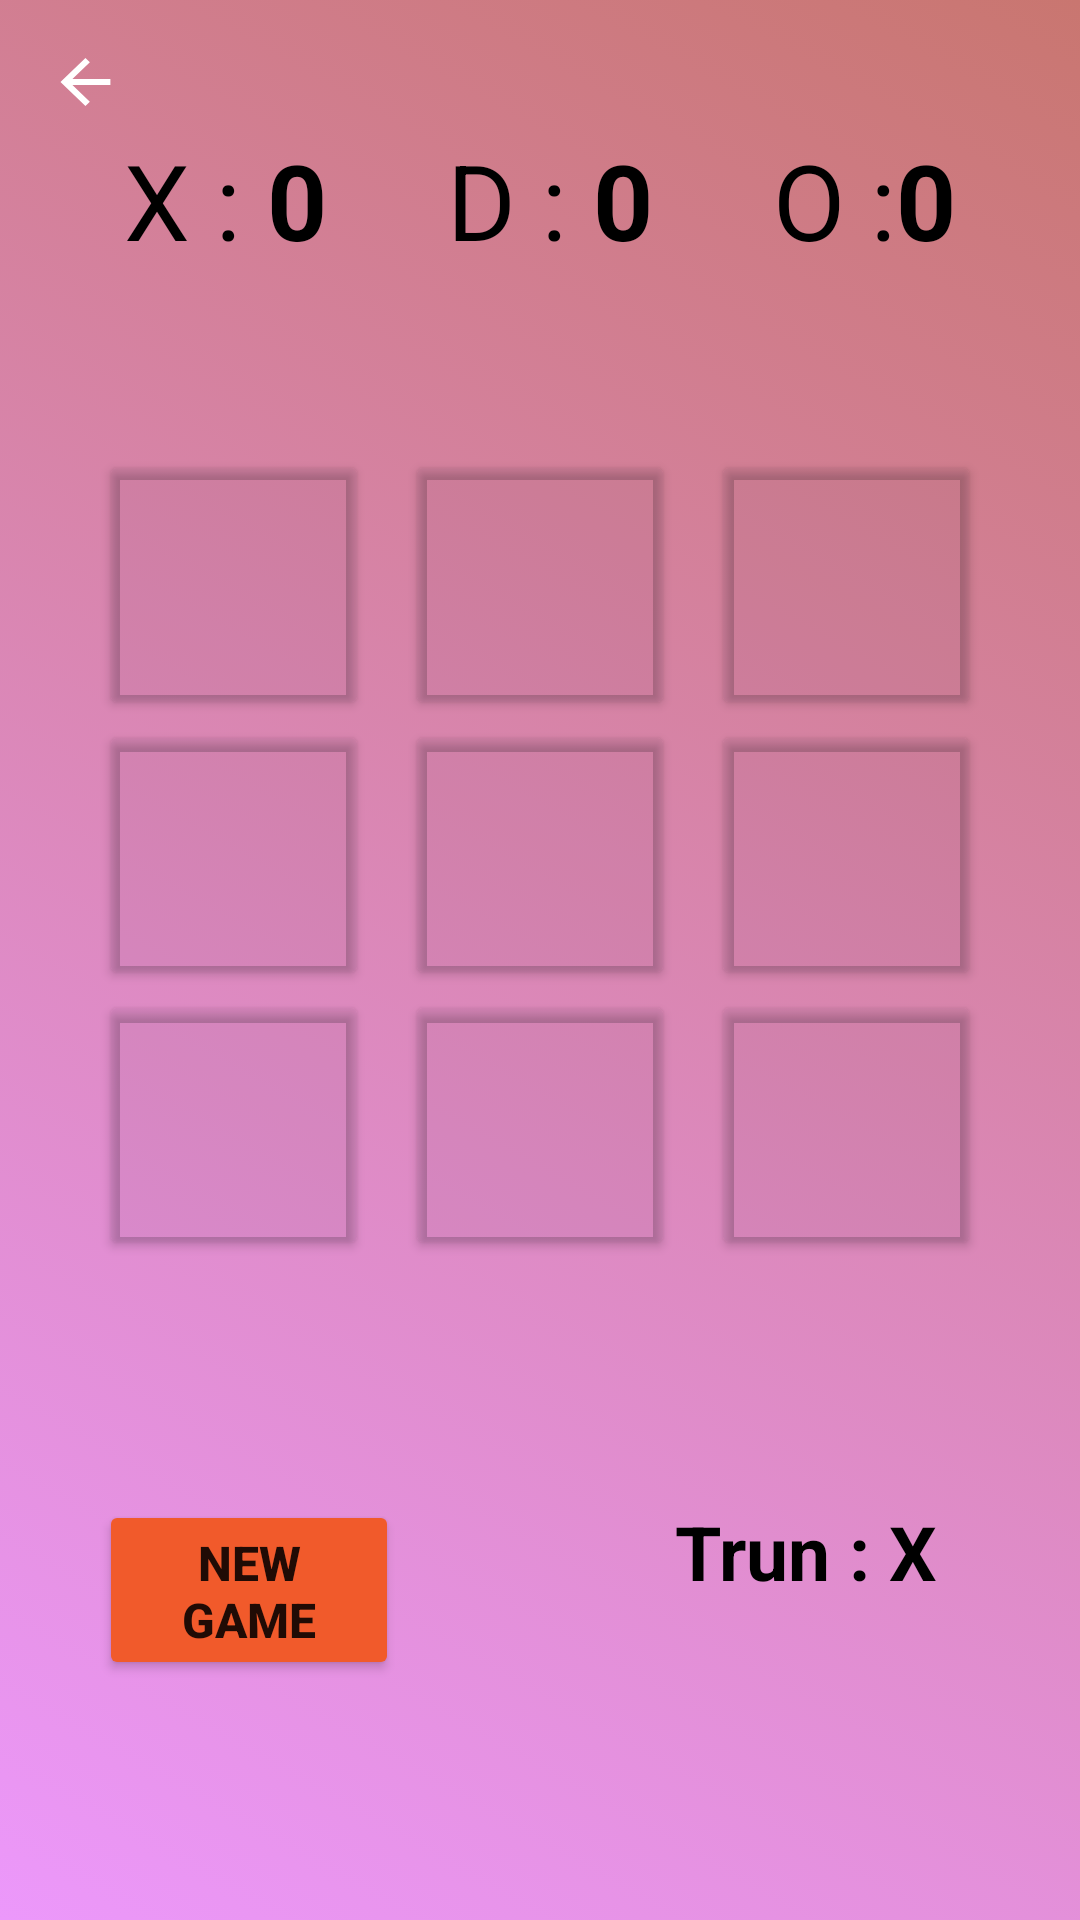

Named icons in this screenshot (1080 x 1920) and their centers, [x,y]:
this Button for back: [86,82]
